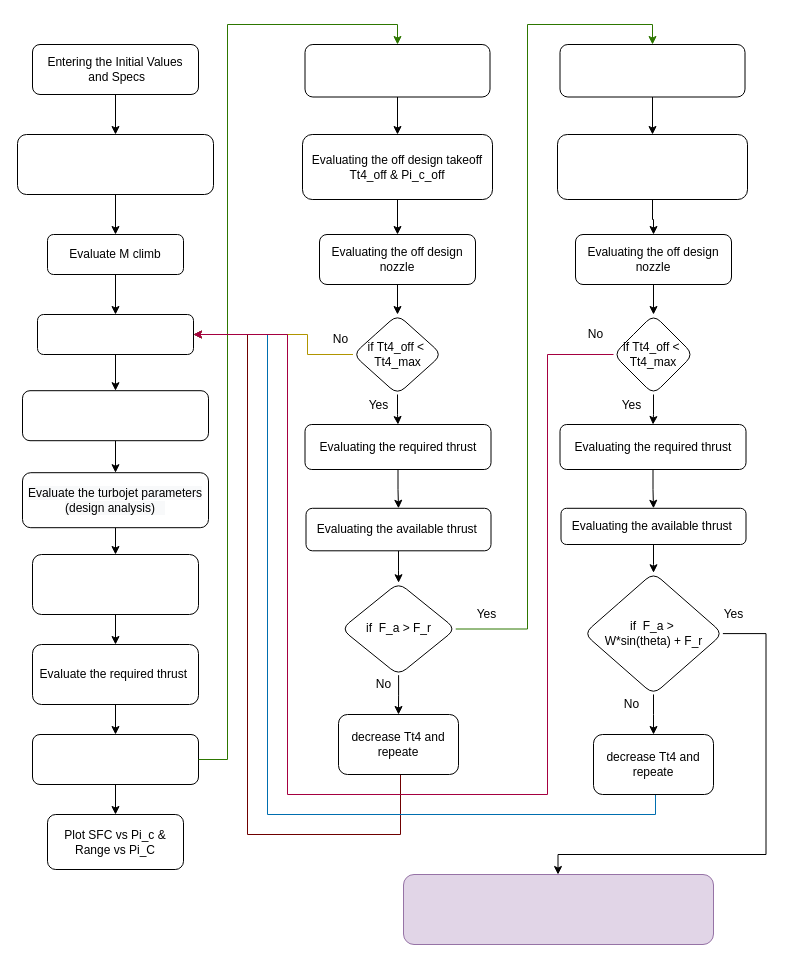
This 792x962 diagram has some shape labels left out. Here are the shapes that lost their labels. From the top down, the centre of each, then its label:
At (x=397, y=70): "Evaluating mdot_off_takeoff".
At (x=652, y=70): "Evaluating mdot_off_climb".
At (x=115, y=164): "Evaluating the weights at the start and end of each segment".
At (x=652, y=167): "Evaluating the off design climb Tt4_off & Pi_c_off".
At (x=115, y=334): "Assuming Tt4 (iterate till reach min SFC)".
At (x=115, y=415): "Iterate on Pi_c form 8 to 30".
At (x=115, y=584): "Evaluating the min SFC and the corresponding Pi_c & Tt4".
At (x=115, y=759): "Get mdot_3 and the frontal area".
At (x=558, y=909): "Design Complete".
